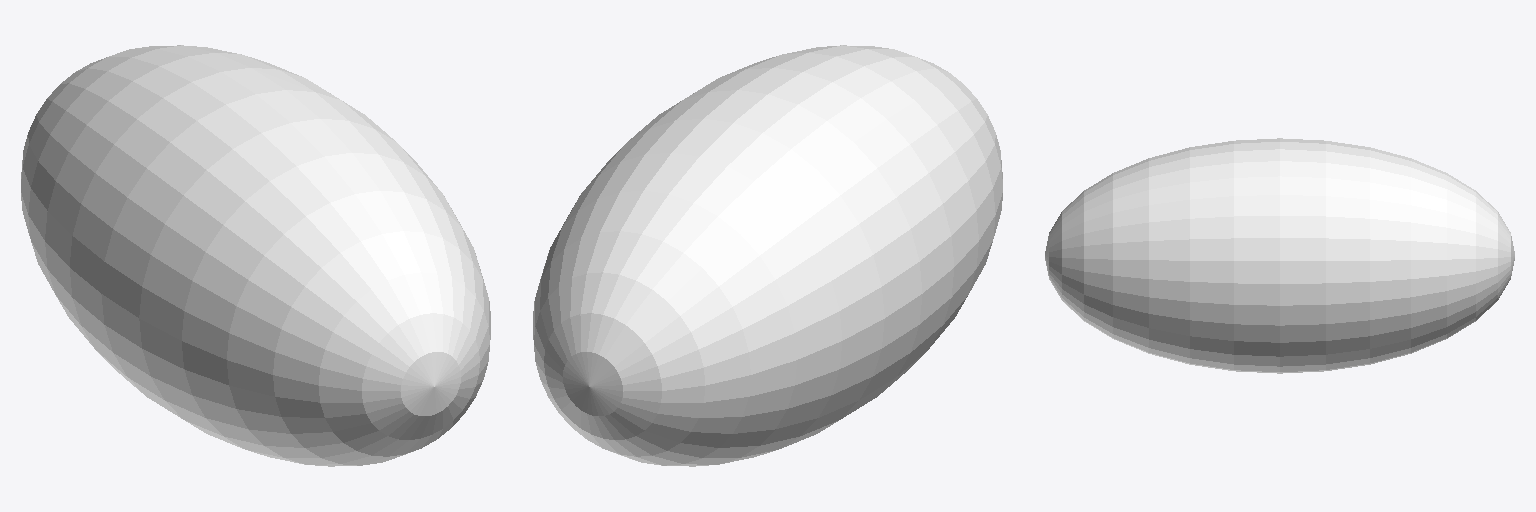
URDF robot description (cube):
<?xml version="1.0" ?>
<robot name="cube">
  <link name="baseLink">
    <contact>
      <lateral_friction value="0.5"/>
      <rolling_friction value="0.0"/>
      <contact_cfm value="0.0"/>
      <contact_erp value="1.0"/>
    </contact>
    <inertial>
      <origin rpy="0 0 0" xyz="0.07 0.05 0.03"/>
       <mass value="2.0"/>
       <inertia ixx="1" ixy="0" ixz="0" iyy="1" iyz="0" izz="1"/>
    </inertial>
    <visual>
      <origin rpy="0 0 0" xyz="0 0 0"/>
      <geometry>
        <mesh filename="supposta1.obj" scale=".1 .1 .1"/>
      </geometry>
      <material name="white" >
        <color rgba="1 1 1 1" />
      </material>
    </visual>
    <collision>
      <origin rpy="0 0 0" xyz="0 0 0"/>
      <geometry>
	 	<mesh filename="supposta1.obj" scale=".1 .1 .1"/>
      </geometry>
    </collision>
  </link>
</robot>

--- Render facts (derived) ---
Views: 3 orthographic renders of the robot side by side, from view 1: azimuth 30°, elevation 25°; view 2: azimuth 150°, elevation 25°; view 3: azimuth 270°, elevation 25°.
Model cube with 1 links and 0 joints (none), rooted at baseLink, posed every joint at zero.
Links seen in each view (by area): view 1: baseLink; view 2: baseLink; view 3: baseLink.
Link boxes in pixels (left/top/right/bottom): baseLink: left=21, top=45, right=490, bottom=466; baseLink: left=533, top=45, right=1002, bottom=466; baseLink: left=1045, top=138, right=1514, bottom=373.
Size in the robot's own frame: 0.1 by 0.2 by 0.1 metres.
1 mesh visuals loaded from 1 distinct referenced files (1 OBJ).
